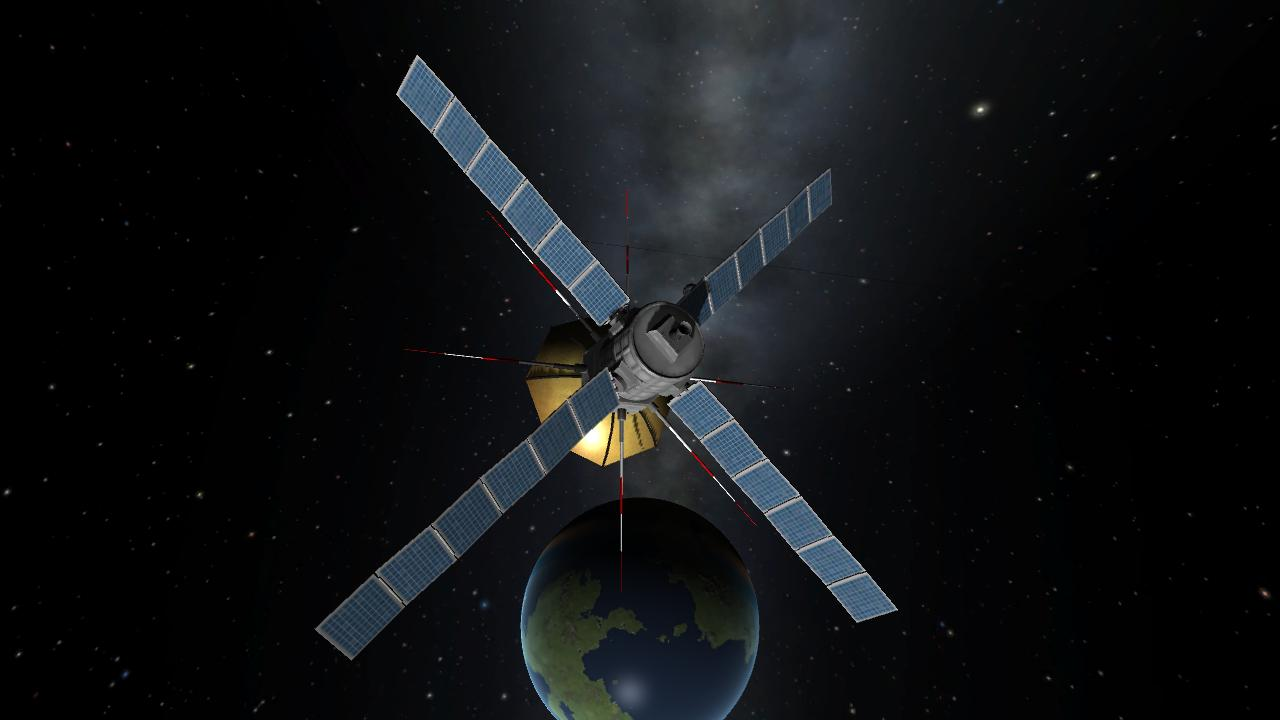antenna: (523, 312, 674, 467), (645, 398, 763, 532), (483, 206, 599, 341), (401, 345, 590, 377), (686, 370, 803, 395), (616, 407, 627, 596), (622, 183, 632, 308)
body: (581, 296, 711, 414)
solar: (309, 366, 622, 666), (392, 52, 631, 327), (666, 380, 902, 626), (676, 165, 839, 328)
thruster: (672, 320, 694, 343)
